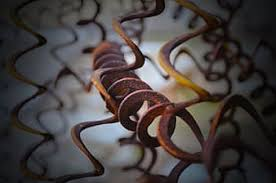rust: (89, 34, 204, 159)
